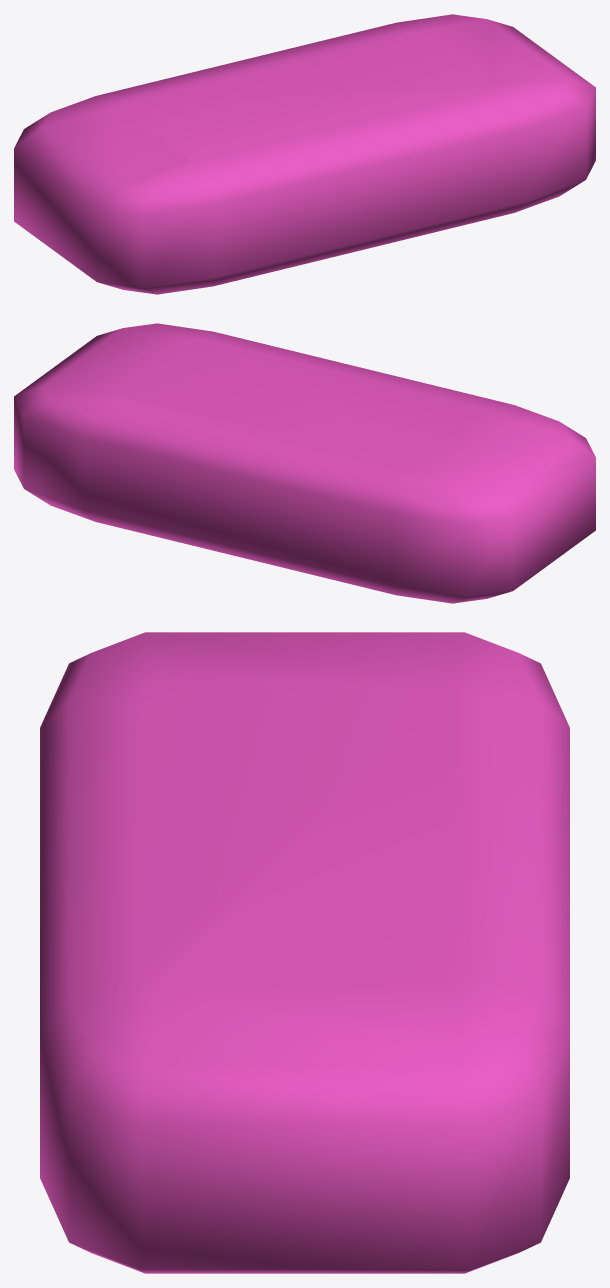
File: мыло.fbx
The picture shows the model from 3 angles, top to bottom: view 1: azimuth 30°, elevation 25°; view 2: azimuth 150°, elevation 25°; view 3: azimuth 270°, elevation 25°; orthographic projection. The views are drawn at different scales.
Parts seen in each view (by area): view 1: Cube.006; view 2: Cube.006; view 3: Cube.006.
Part boxes in pixels (bbox=[...]): Cube.006: bbox=[14, 14, 595, 294]; Cube.006: bbox=[14, 323, 595, 603]; Cube.006: bbox=[40, 632, 569, 1273].
Bounding box in the file's own units: 87.94 × 19.7 × 40.44.
